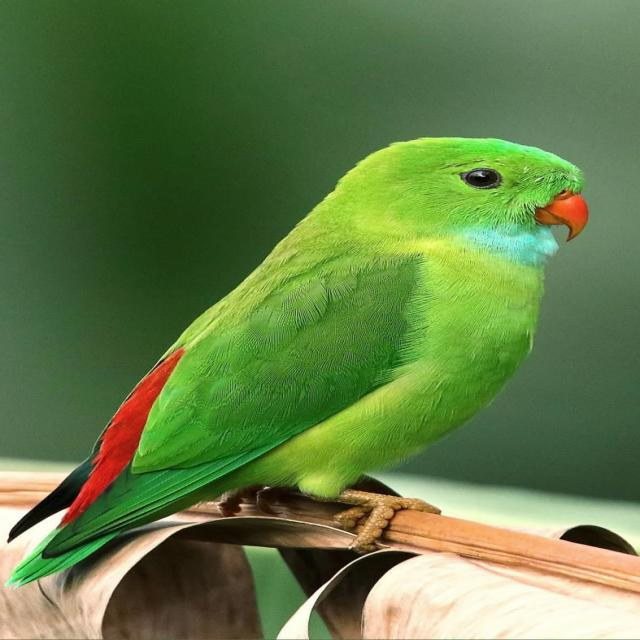parrot: (11, 138, 589, 585)
